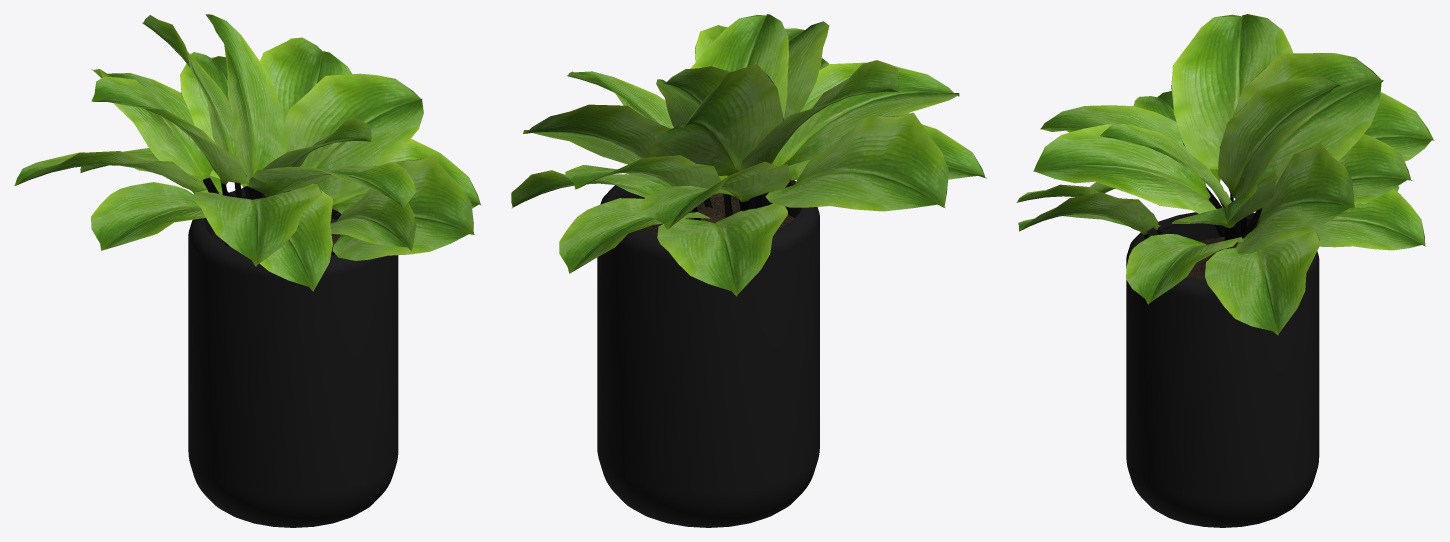
File: plant19.gltf
3 views of the same model, side by side, from view 1: azimuth 30°, elevation 25°; view 2: azimuth 150°, elevation 25°; view 3: azimuth 270°, elevation 25° (orthographic). The views are drawn at different scales.
Parts seen in each view (by area): view 1: 19; view 2: 19; view 3: 19.
Boxes of the visible parts, left/top/right/bottom form: 19: left=14, top=14, right=481, bottom=527; 19: left=511, top=14, right=986, bottom=527; 19: left=1016, top=14, right=1434, bottom=527.
Bounding box in the file's own units: 0.3163 × 0.3382 × 0.3077.
1 material, 1 textured.
